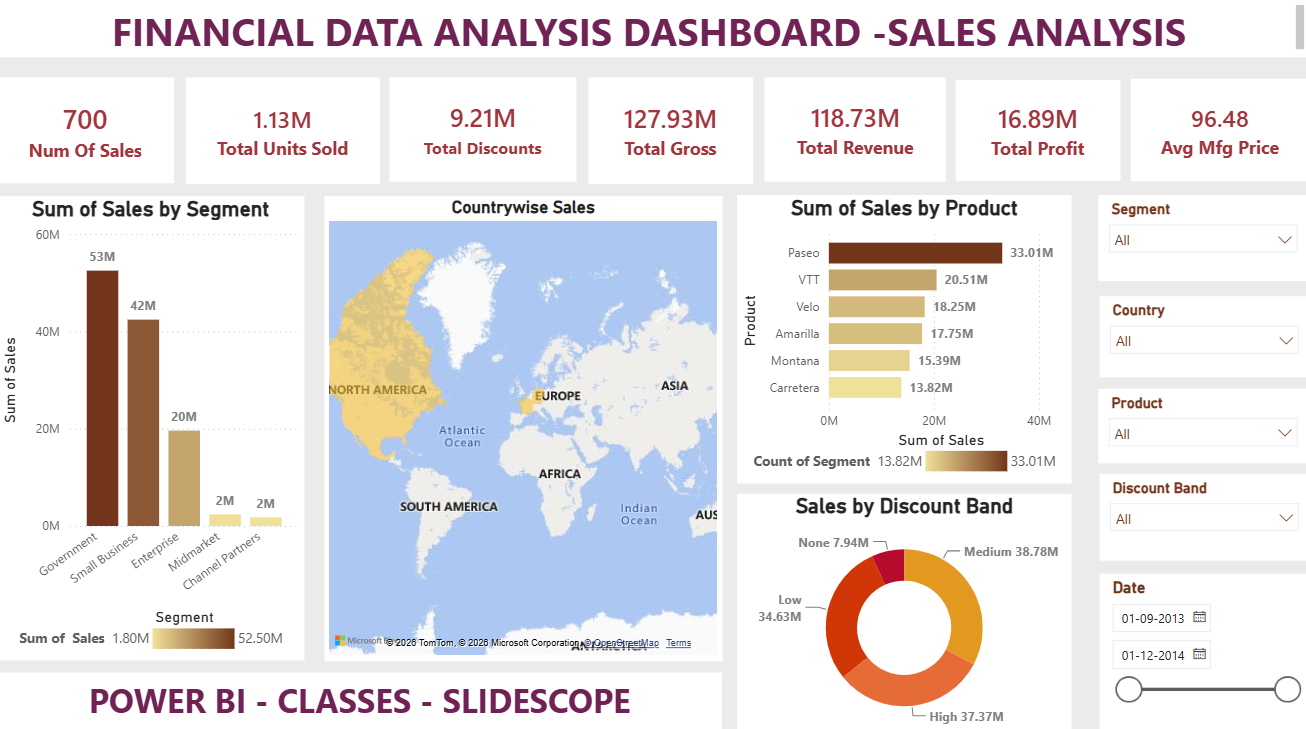

What the dashboard file says about the page in this screenshot:
{"tool":"powerbi","page":{"name":"Page 1","canvas":[1280,720],"ordinal":0},"visuals":[{"type":"donutChart","title":"Sales by Discount Band","fields":{"Category":["financials.Discount Band"],"Y":["Sum(financials. Sales)"]},"box":[721.8,481.6,326.6,238.8],"z":0},{"type":"barChart","fields":{"Y":["Sum(financials. Sales)"],"Category":["financials.Product"]},"box":[721.8,190.7,326.6,281.3],"z":1000},{"type":"filledMap","title":"Countrywise Sales","fields":{"Category":["Sheet1.Country"]},"box":[319.7,190.9,387.9,453],"z":2000},{"type":"columnChart","fields":{"Category":["financials.Segment"],"Y":["Sum(financials. Sales)"]},"box":[0,190.9,300,453],"z":3000},{"type":"cardVisual","title":"Num of Sales","fields":{"Data":["CountNonNull(financials. Sales)"]},"box":[0,75.8,172.7,103],"z":4000},{"type":"cardVisual","title":"Num of Sales","fields":{"Data":["Sum(financials.Units Sold)"]},"box":[183.9,75.5,189.4,104.3],"z":5000},{"type":"cardVisual","title":"Num of Sales","fields":{"Data":["Sum(financials.Discounts)"]},"box":[382.8,75.5,182.5,101.5],"z":6000},{"type":"cardVisual","title":"Num of Sales","fields":{"Data":["Sum(financials.Profit)"]},"box":[935.9,78.2,160.5,98.8],"z":7000},{"type":"cardVisual","title":"Num of Sales","fields":{"Data":["Sum(financials.Gross Sales)"]},"box":[576.3,75.5,160.5,104.3],"z":8000},{"type":"cardVisual","title":"Num of Sales","fields":{"Data":["Sum(financials. Sales)"]},"box":[749.2,75.5,177,101.5],"z":9000},{"type":"slicer","fields":{"Values":["financials.Segment"]},"box":[1074.4,190.7,204.5,83.7],"z":10000},{"type":"slicer","fields":{"Values":["financials.Country"]},"box":[1075.8,289.5,204.5,79.6],"z":11000},{"type":"slicer","fields":{"Values":["financials.Product"]},"box":[1074.4,378.7,204.5,72.7],"z":12000},{"type":"slicer","fields":{"Values":["financials.Discount Band"]},"box":[1075.8,462.4,204.5,85.1],"z":13000},{"type":"cardVisual","title":"Num of Sales","fields":{"Data":["Avg(financials.Manufacturing Price)"]},"box":[1106,76.8,174.3,100.2],"z":14000},{"type":"slicer","fields":{"Values":["Sheet1.Date"]},"box":[1075.8,559.9,204.5,159.2],"z":15000},{"type":"textbox","box":[0,0,1280.3,56.1],"z":16000},{"type":"textbox","box":[0,656.1,707.6,63.6],"z":17000}]}

Visuals, with their boxes in screenshot pixels (x1, y1, x2, y2), scaled from the page's 1280x720 canvas onto the 1306x729 screenshot:
"Sales by Discount Band" donutChart: bbox(736, 488, 1070, 728)
barChart - Sum(financials. Sales) x financials.Product: bbox(736, 193, 1070, 478)
"Countrywise Sales" filledMap: bbox(326, 193, 722, 652)
columnChart - financials.Segment x Sum(financials. Sales): bbox(0, 193, 306, 652)
"Num of Sales" cardVisual: bbox(0, 77, 176, 181)
"Num of Sales" cardVisual: bbox(188, 76, 381, 182)
"Num of Sales" cardVisual: bbox(391, 76, 577, 179)
"Num of Sales" cardVisual: bbox(955, 79, 1119, 179)
"Num of Sales" cardVisual: bbox(588, 76, 752, 182)
"Num of Sales" cardVisual: bbox(764, 76, 945, 179)
slicer - financials.Segment: bbox(1096, 193, 1305, 278)
slicer - financials.Country: bbox(1098, 293, 1305, 374)
slicer - financials.Product: bbox(1096, 383, 1305, 457)
slicer - financials.Discount Band: bbox(1098, 468, 1305, 554)
"Num of Sales" cardVisual: bbox(1128, 78, 1305, 179)
slicer - Sheet1.Date: bbox(1098, 567, 1305, 728)
textbox: bbox(0, 0, 1305, 57)
textbox: bbox(0, 664, 722, 728)
